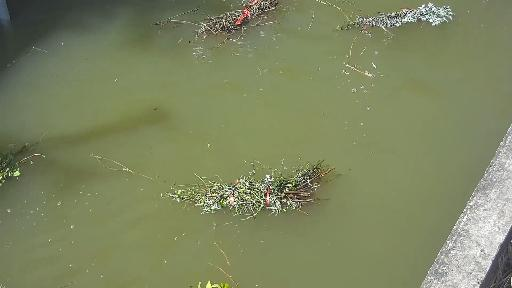twig: (168, 168, 377, 220), (191, 0, 303, 30), (346, 9, 454, 38), (0, 140, 41, 190), (176, 281, 257, 288)
